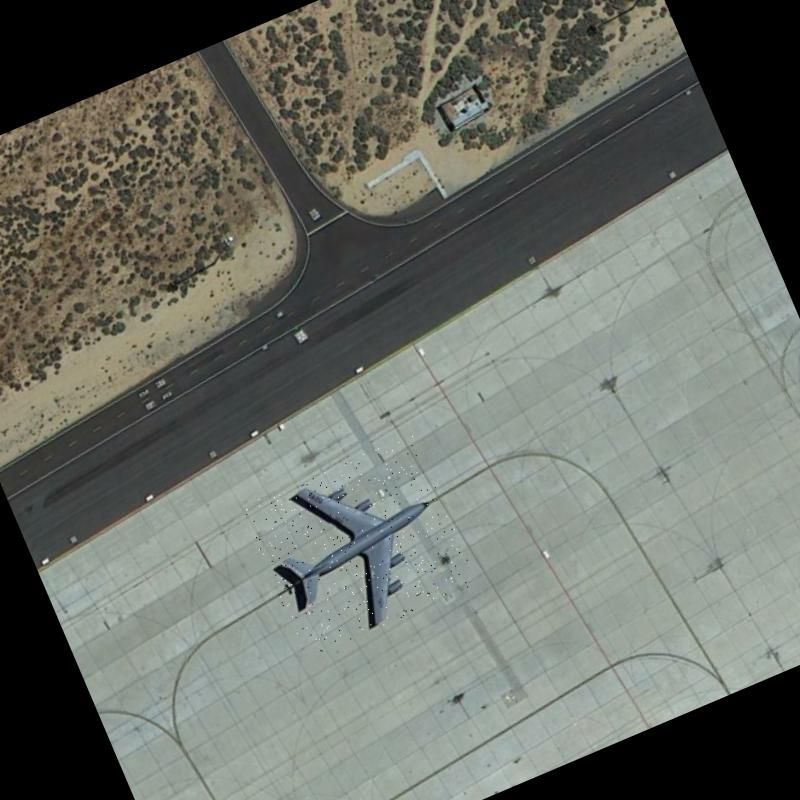A14: (241, 432, 480, 660)
